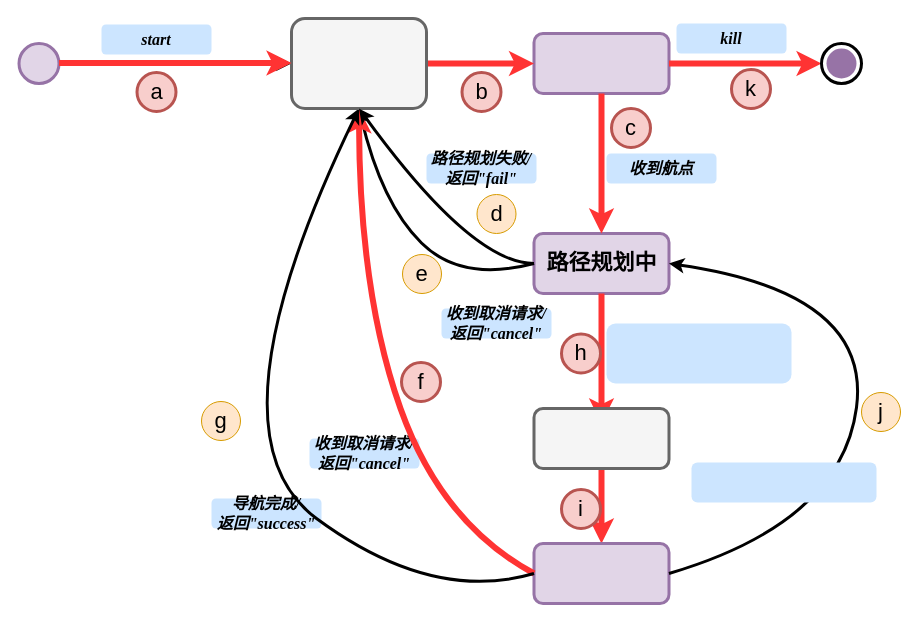
The diagram is 918 pixels wide and 622 high, and some of its shapes have lost their labels. Each missing label, with the centre of its shape:
move_base路径规划完成 / plan_init = True: [698,353]
低速检测器重新发送航点plan_init=False: [783,482]
启动低速检测器和进度反馈器: [601,438]
导航中: [601,573]
状态变量复位: [359,63]
等待: [601,63]
